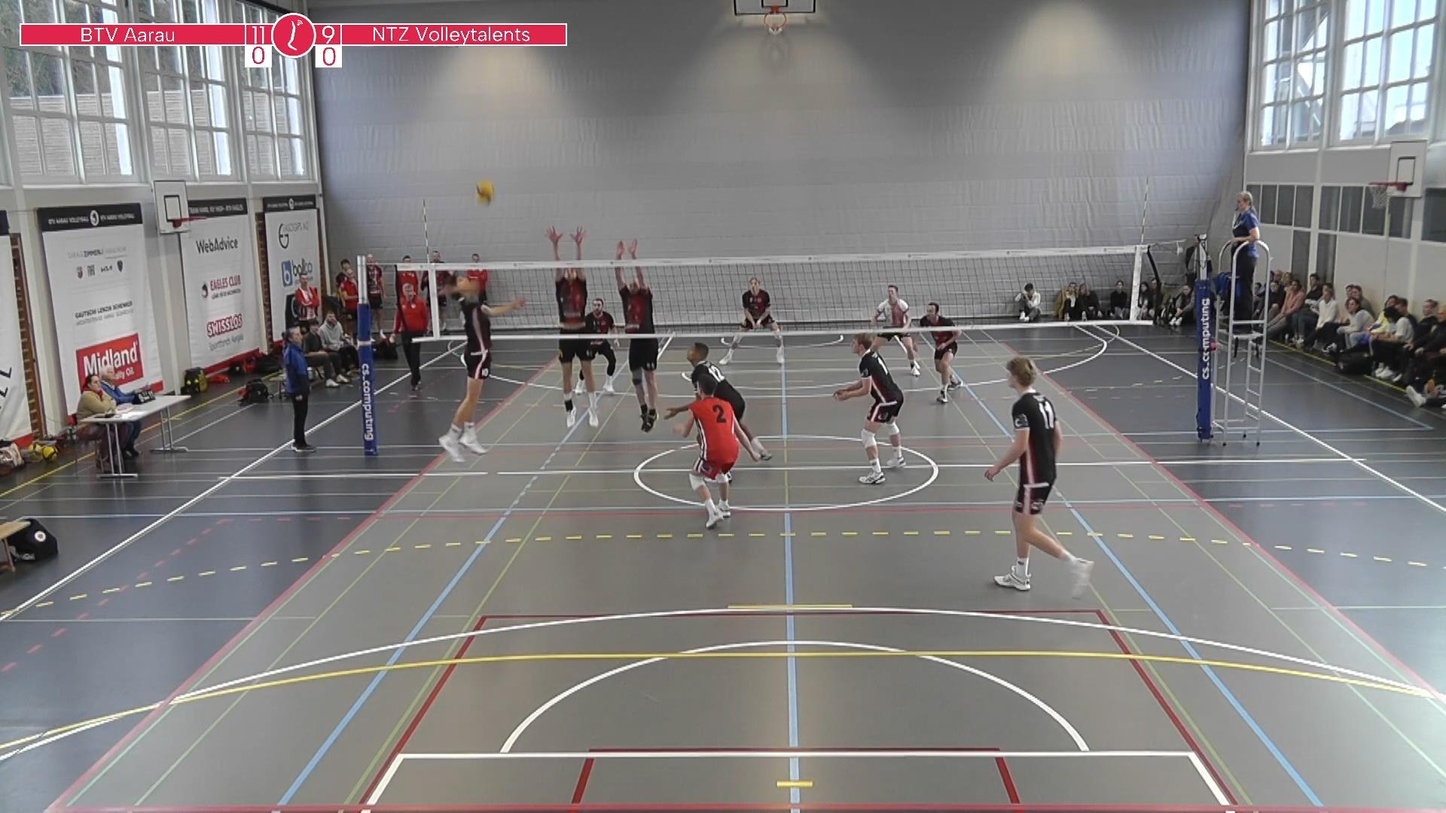attacco: (423, 275, 535, 463)
muro: (536, 221, 610, 438), (606, 233, 669, 442)
